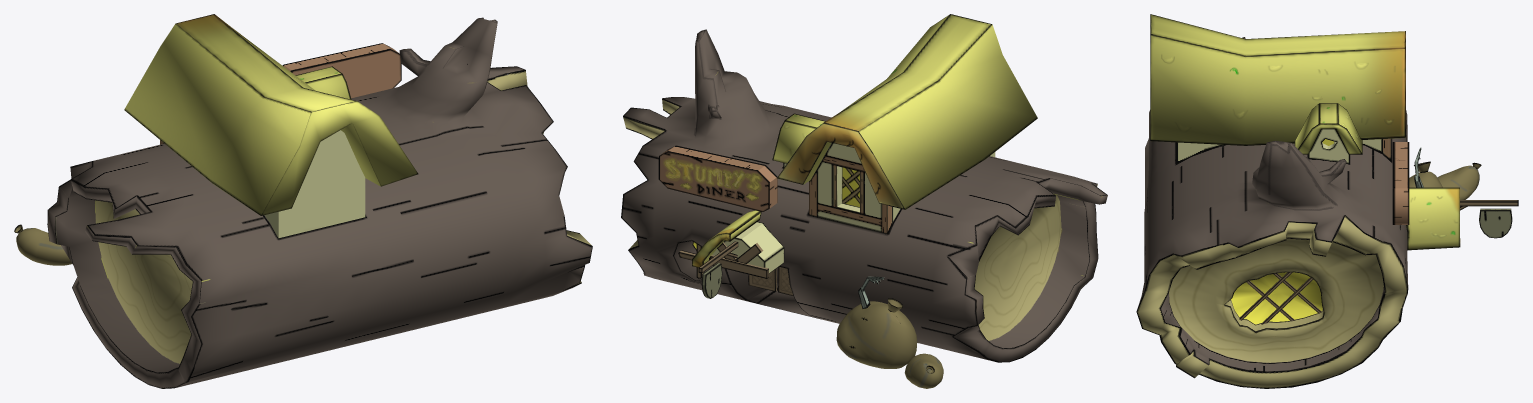
The model's file is Stumpy_s_Dinner.glb.
The picture shows the model from 3 angles, left to right: view 1: azimuth 30°, elevation 25°; view 2: azimuth 150°, elevation 25°; view 3: azimuth 270°, elevation 25°; orthographic projection. The views are drawn at different scales.
Visible parts, largest first — view 1: stump, Cube.001, Cube, logo, Sphere.001, Cube.003; view 2: stump, Cube.001, logo, Cube, Sphere, Cube.008, Cube.003, Cube.009, Sphere.001, Cylinder.002, Cylinder.003, Cube.010; view 3: stump, Cube.001, Cube.009, Cube.003, logo, Cube.002, Cylinder.003, Cube, Sphere.001, Cube.014, Sphere.
Part boxes in pixels (x1,y1,x2,y2): stump: (47, 17, 592, 388); Cube.001: (124, 14, 418, 215); Cube: (160, 130, 365, 238); logo: (282, 43, 401, 98); Sphere.001: (16, 228, 72, 265); Cube.003: (295, 66, 351, 99); stump: (621, 29, 1107, 362); Cube.001: (777, 14, 1037, 209); logo: (658, 145, 777, 211); Cube: (809, 142, 995, 233); Sphere: (836, 301, 917, 368); Cube.008: (712, 221, 784, 273); Cube.003: (772, 113, 825, 163); Cube.009: (692, 210, 761, 267); Sphere.001: (904, 353, 943, 388); Cylinder.002: (748, 267, 793, 295); Cylinder.003: (701, 263, 722, 298); Cube.010: (709, 255, 768, 278); stump: (1136, 37, 1408, 388); Cube.001: (1150, 14, 1405, 145); Cube.009: (1406, 187, 1460, 250); Cube.003: (1294, 103, 1362, 154); logo: (1392, 142, 1409, 224); Cube.002: (1308, 129, 1349, 163); Cylinder.003: (1479, 208, 1512, 238); Cube: (1176, 138, 1390, 163); Sphere.001: (1437, 165, 1479, 199); Cube.014: (1460, 200, 1518, 206); Sphere: (1409, 171, 1442, 187).
Bounding box in the file's own units: 11.76 × 6.68 × 8.99.
Materials: 2 (1 with a texture image).
